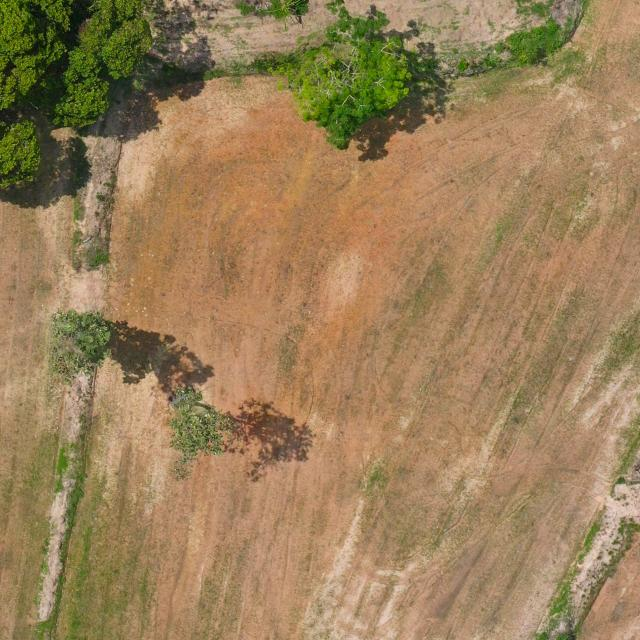Tree: (0, 0, 158, 197), (270, 0, 424, 155), (164, 383, 242, 482), (48, 307, 114, 388)
